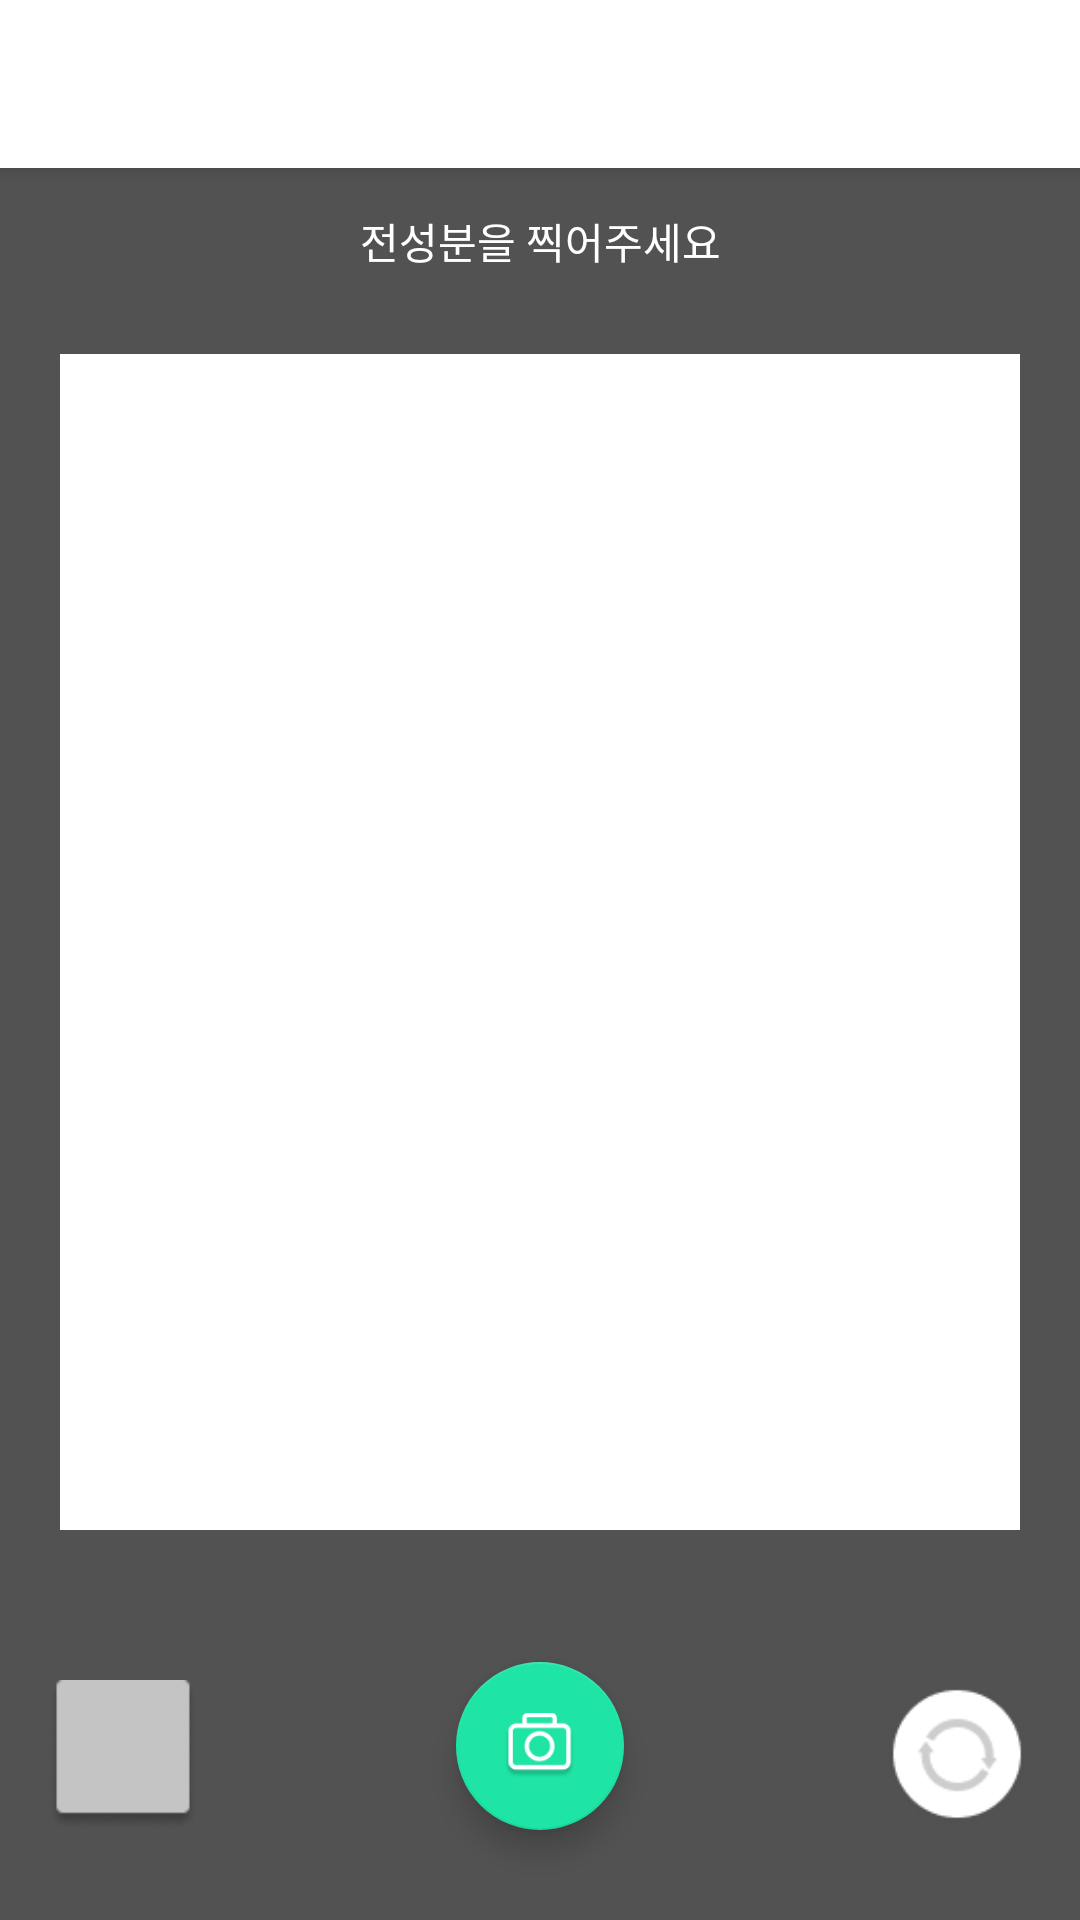

Where to tap for icons on this 1080 x 1920 app screen, as point (x, y):
activity camera reverse: point (957, 1754)
camera: point (540, 1746)
